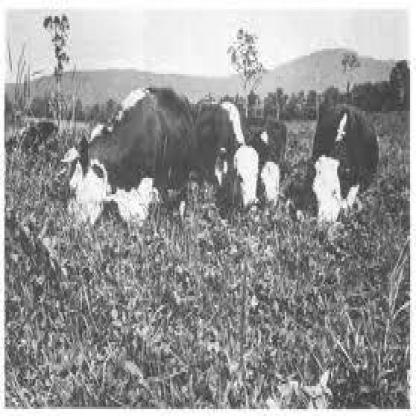cow: (67, 88, 195, 229), (308, 102, 378, 228), (198, 98, 260, 216), (257, 118, 289, 212)
